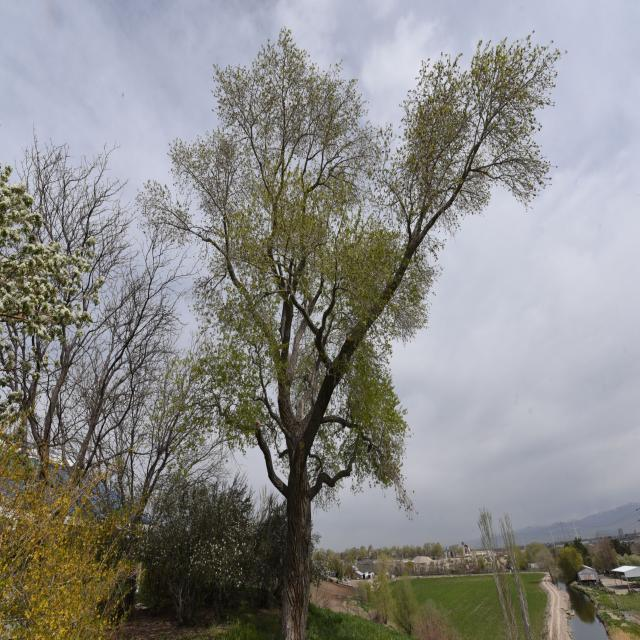Populus angustifolia: (142, 20, 561, 621)
